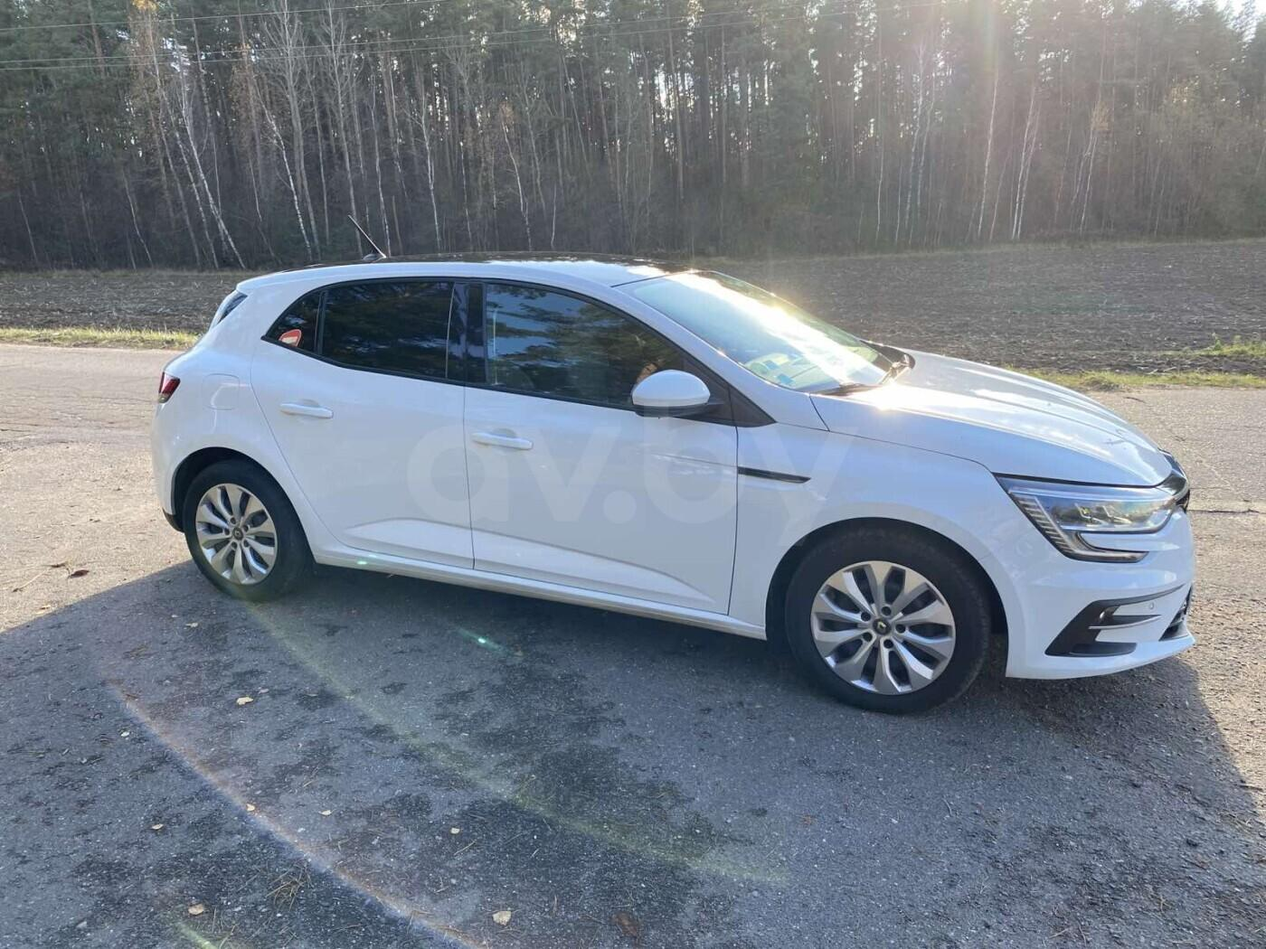Megane_2020: (145, 249, 1203, 702)
